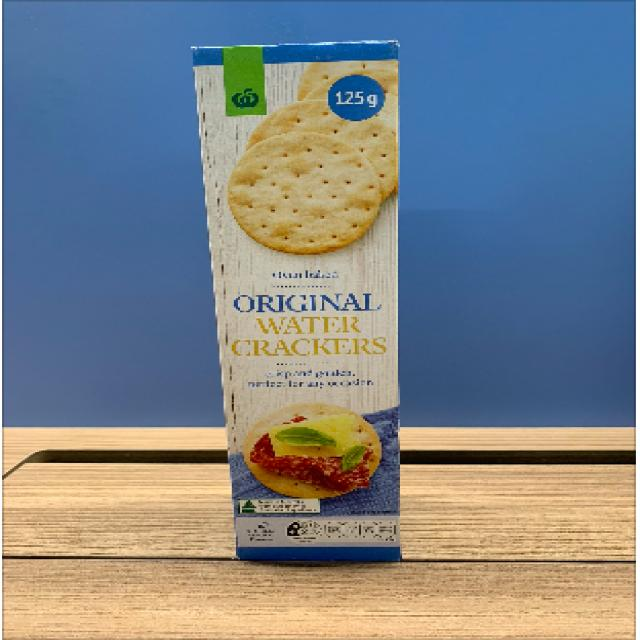object_name: (198, 46, 414, 559)
